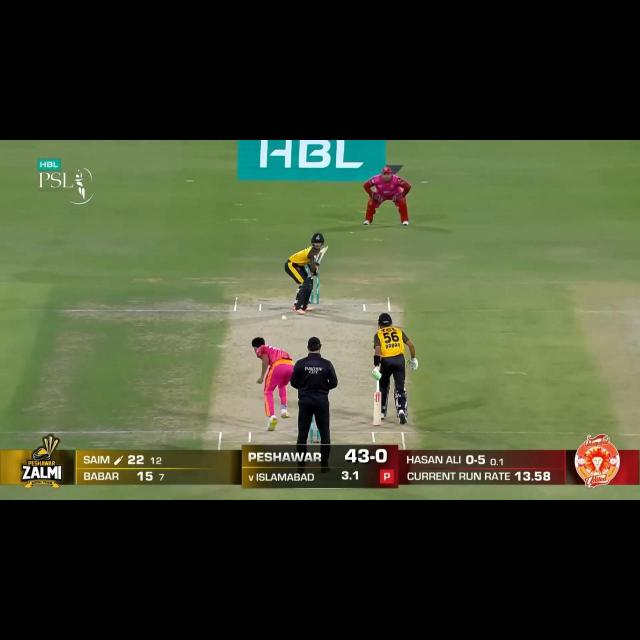bat: (371, 392, 387, 428), (313, 246, 329, 270)
toe: (320, 244, 333, 255), (372, 417, 383, 427)
